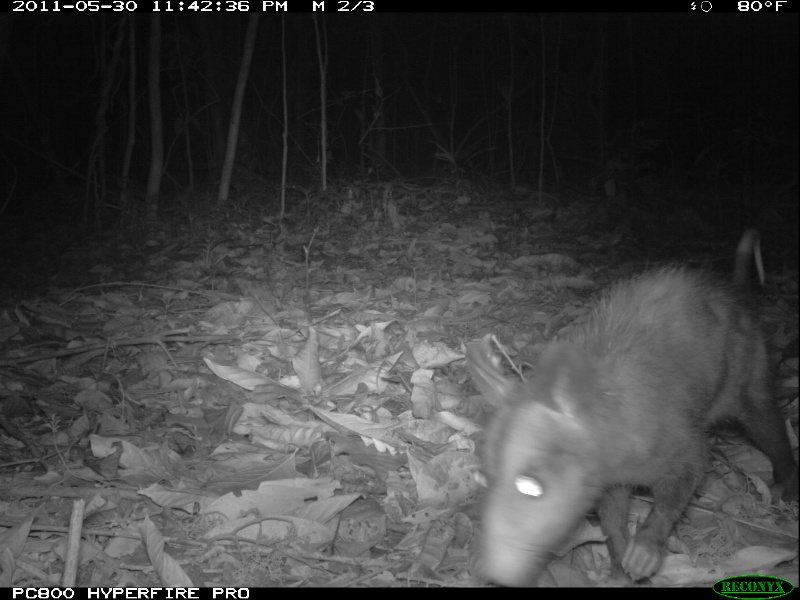opossum: (467, 235, 800, 583)
